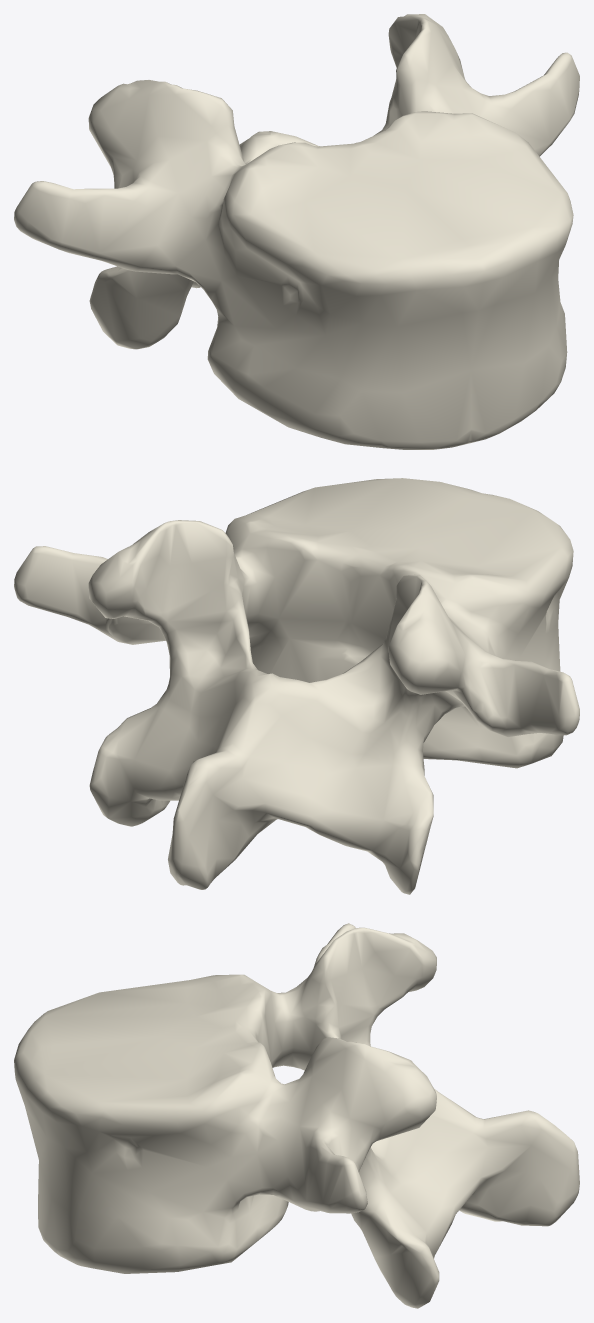
3 renders of one model, top to bottom at view 1: azimuth 30°, elevation 25°; view 2: azimuth 150°, elevation 25°; view 3: azimuth 270°, elevation 25°, orthographic. The views are drawn at different scales.
Parts seen in each view (by area): view 1: ZA_9b3e08dcf3827b70; view 2: ZA_9b3e08dcf3827b70; view 3: ZA_9b3e08dcf3827b70.
Boxes of the visible parts, left/top/right/bottom form: ZA_9b3e08dcf3827b70: left=14, top=14, right=579, bottom=449; ZA_9b3e08dcf3827b70: left=14, top=478, right=579, bottom=894; ZA_9b3e08dcf3827b70: left=14, top=923, right=579, bottom=1308.
Size of the model in its own units: 0.0887 by 0.0429 by 0.0843.
